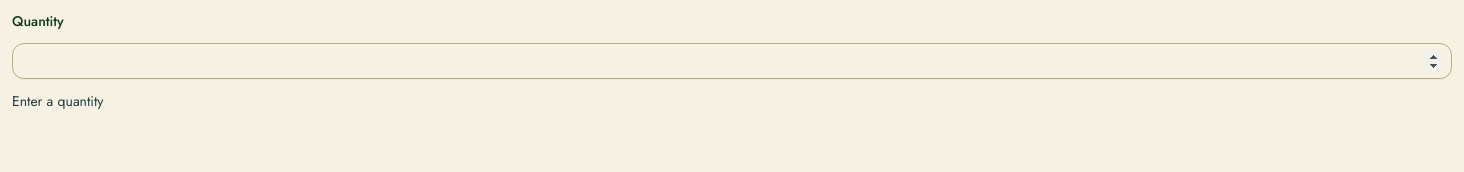
NumberField › shows error when value exceeds max
Type "100" into the number field labelled "Quantity". click: (732, 61)
box: left=12, top=43, right=1452, bottom=79
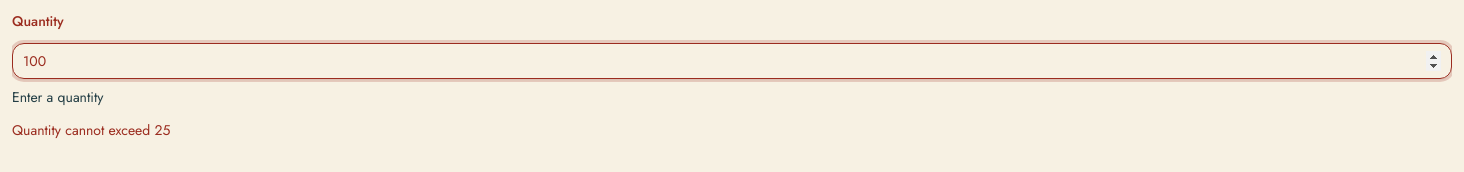
Result: the text "Quantity cannot exceed 25" is shown at left=12, top=120, right=170, bottom=140
